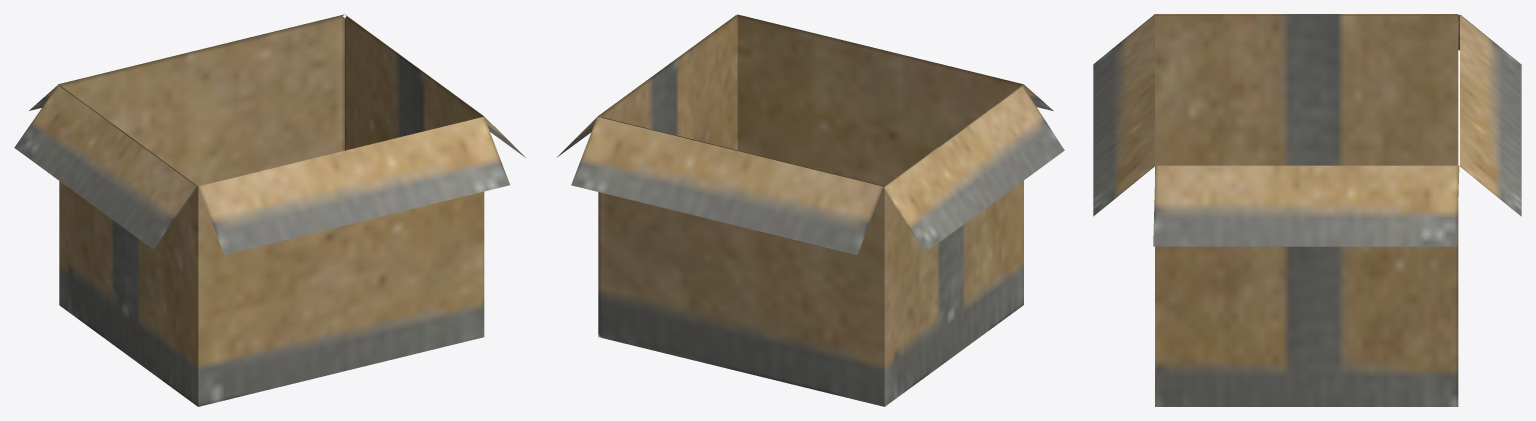
3 renders of one model, left to right at view 1: azimuth 30°, elevation 25°; view 2: azimuth 150°, elevation 25°; view 3: azimuth 270°, elevation 25°, orthographic. The views are drawn at different scales.
Parts seen in each view (by area): view 1: cube; view 2: cube; view 3: cube.
Part boxes in pixels (x1,y1,x2,y2): cube: [14, 14, 526, 406]; cube: [556, 14, 1064, 406]; cube: [1093, 14, 1521, 406].
Bounding box in the file's own units: 1.54 × 0.8776 × 1.41.
